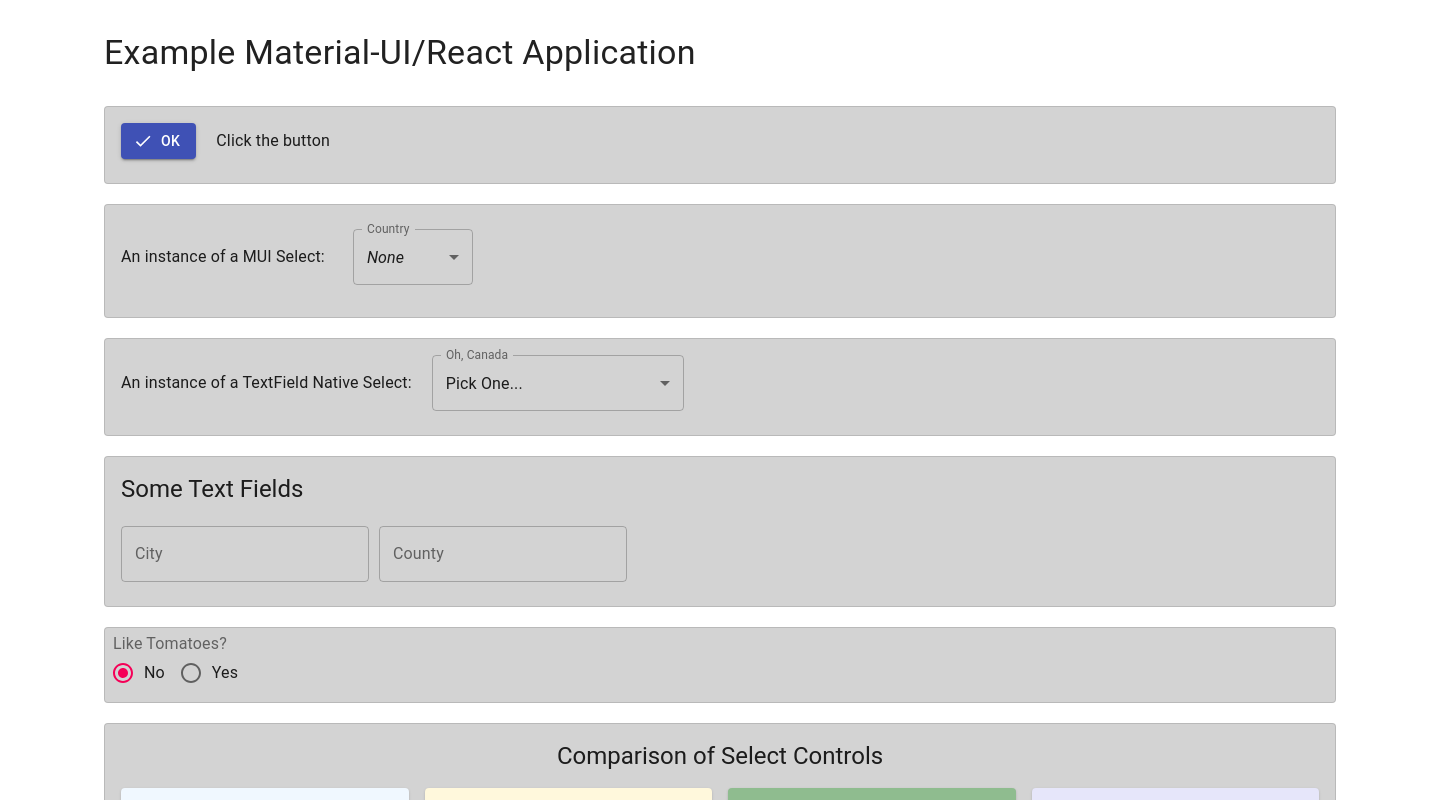
Test: App › OK button click
The image size is (1440, 800).
Expected: the text "Click the button" is shown, top-left (196, 129), bottom-right (330, 153)
Expected: the icon with test id "check-icon-on-ok-btn" is shown, top-left (133, 131), bottom-right (153, 151)
Click the button "ok" at (159, 141), box top-left (121, 123), bottom-right (196, 160)
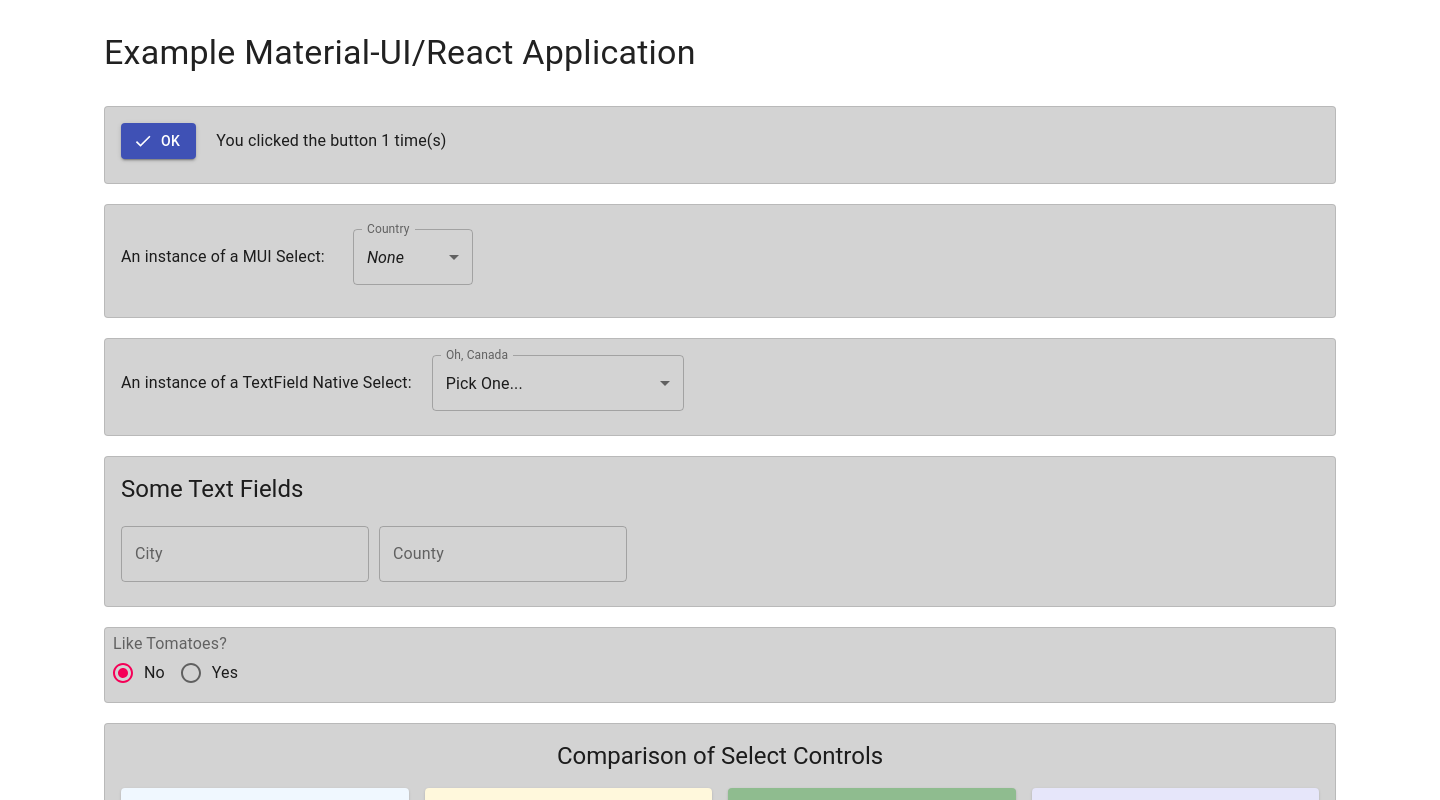
Expected: the text "You clicked the button 1 time(s)" is shown, top-left (196, 129), bottom-right (446, 153)
Click the button "ok" at (159, 141), box top-left (121, 123), bottom-right (196, 160)
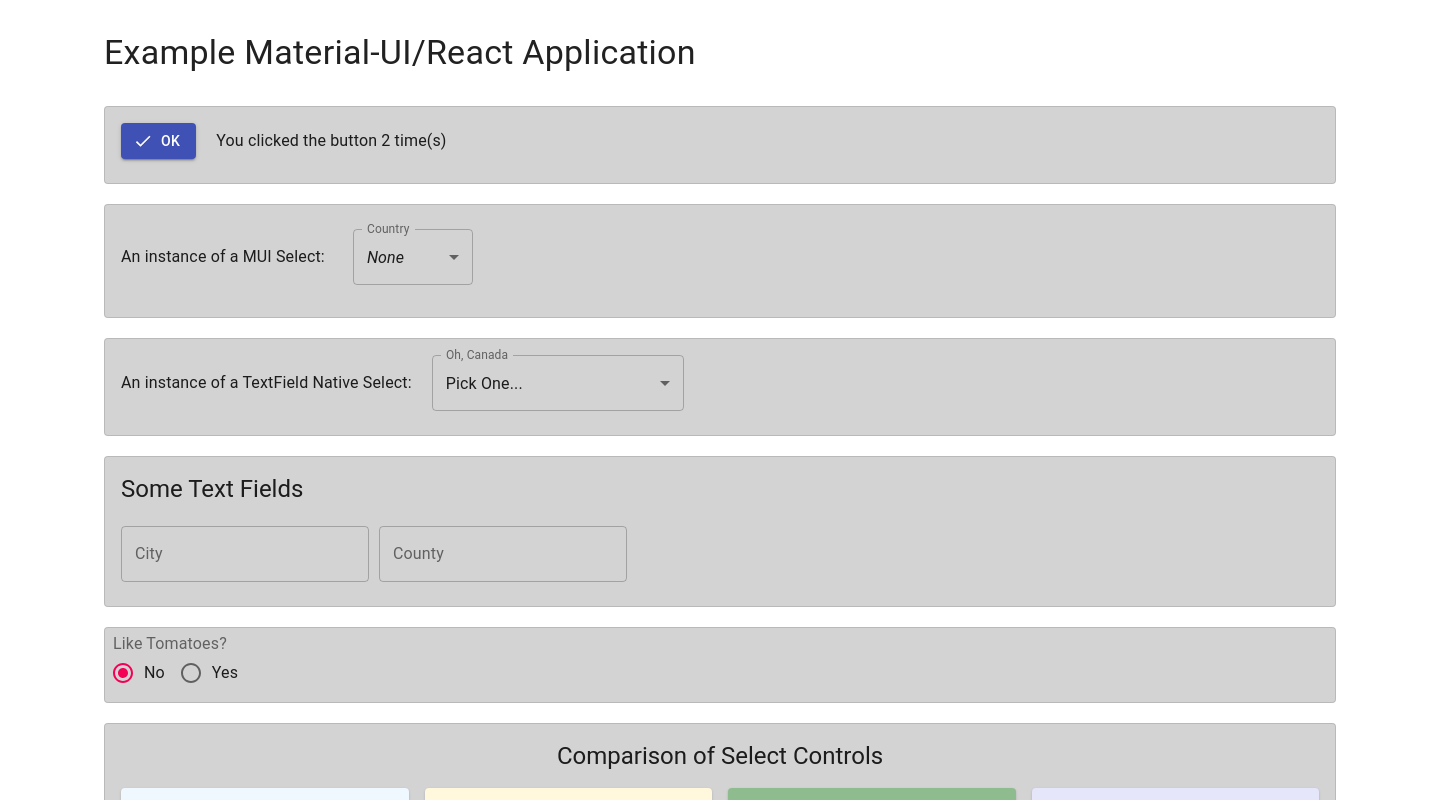
Expected: the text "You clicked the button 2 time(s)" is shown, top-left (196, 129), bottom-right (446, 153)
